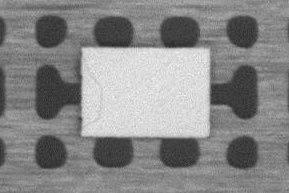DIE_CRACK: (82, 56, 102, 126)
